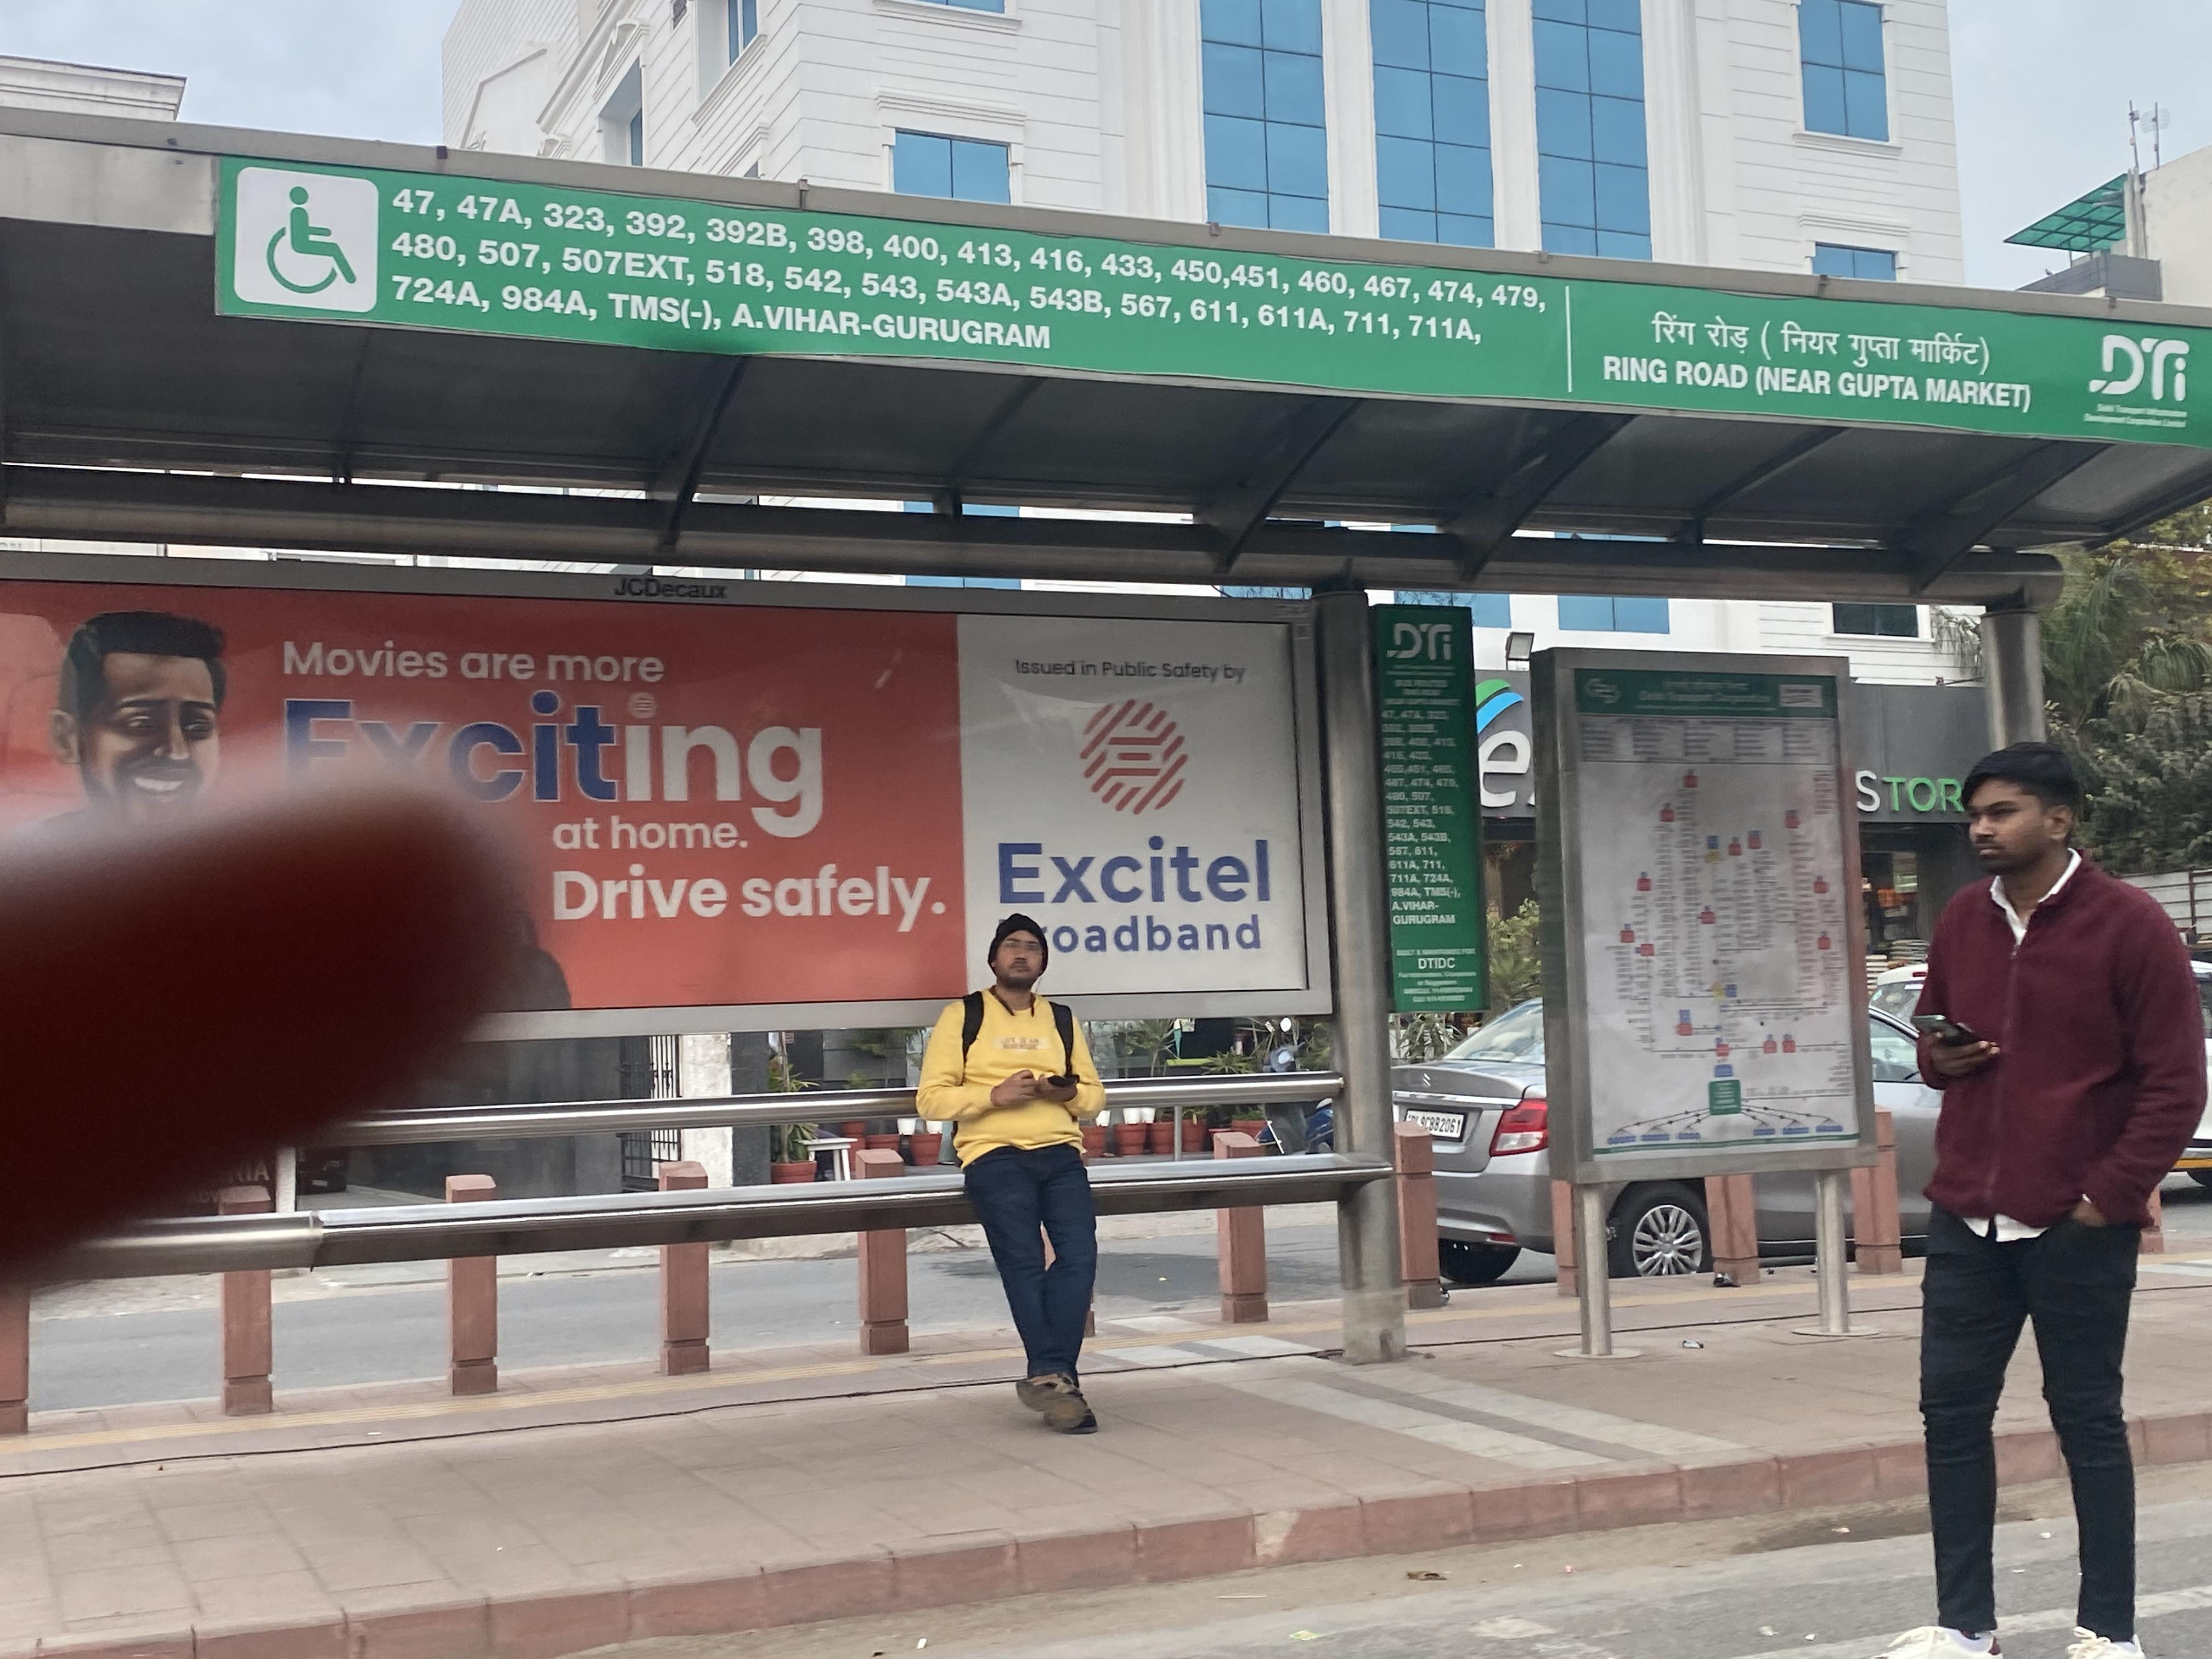Bus-stop-board: (192, 148, 2212, 434)
